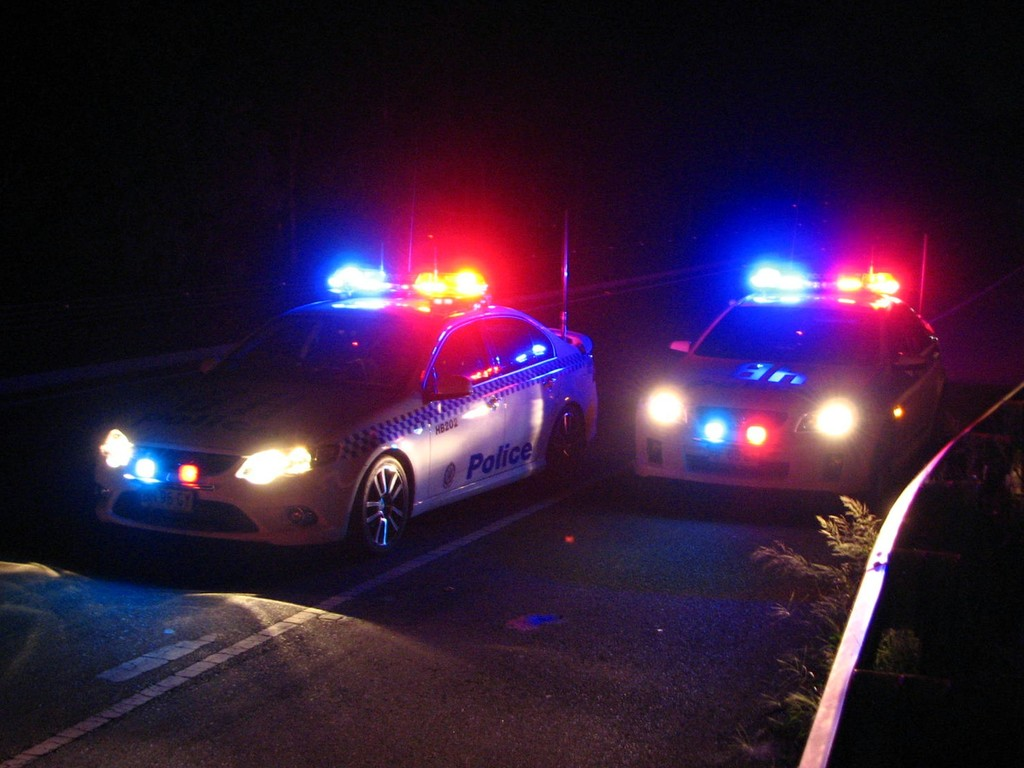Car: (94, 261, 602, 567), (636, 257, 956, 516)
